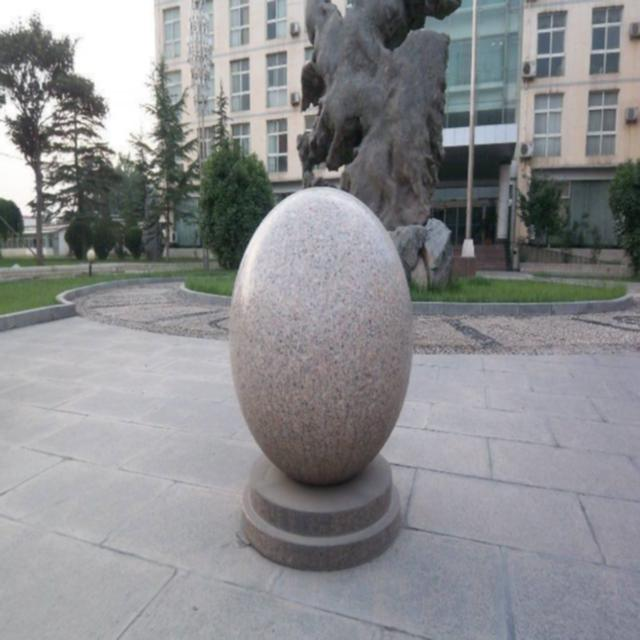pole: (463, 0, 476, 254)
spherical_roadblock: (227, 184, 417, 565)
